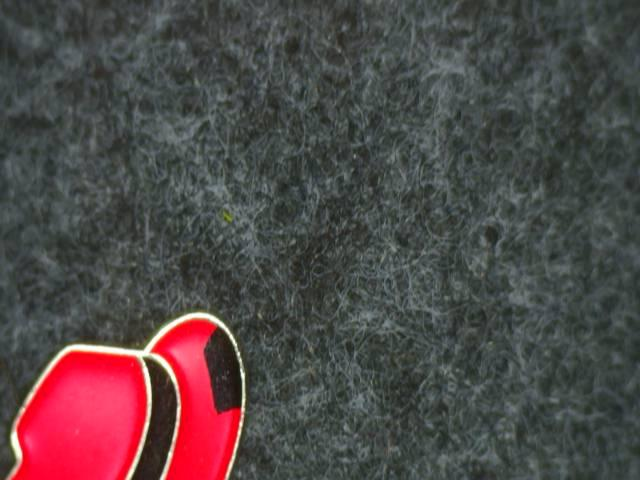Red-Hat: (0, 288, 270, 480)
Scratch: (188, 313, 262, 432)
